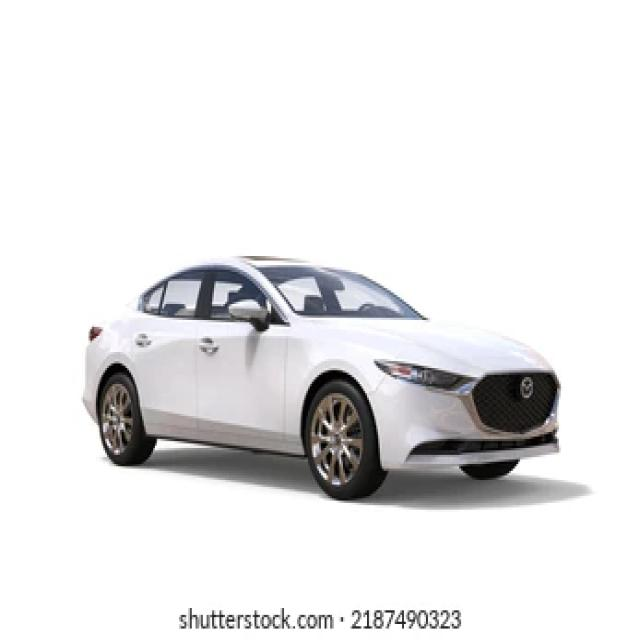mazda: (520, 376, 535, 399)
